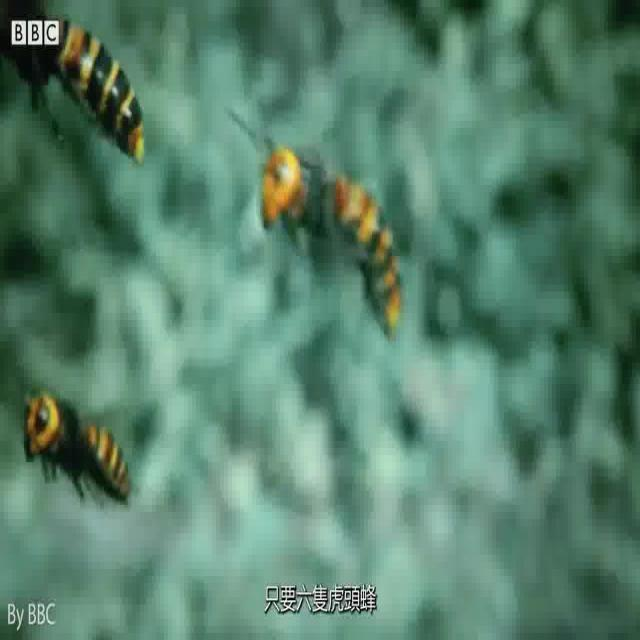Wasp: (235, 110, 411, 344), (19, 364, 141, 510)
